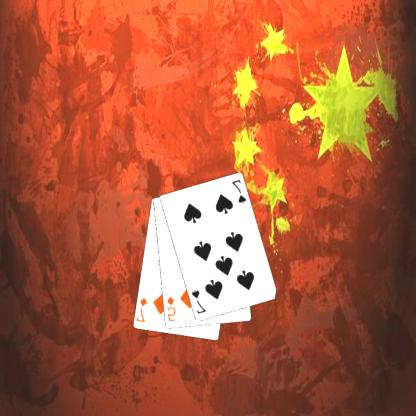5D: (166, 294, 178, 322)
7D: (136, 295, 150, 324)
7S: (230, 177, 249, 205), (191, 288, 209, 316)
